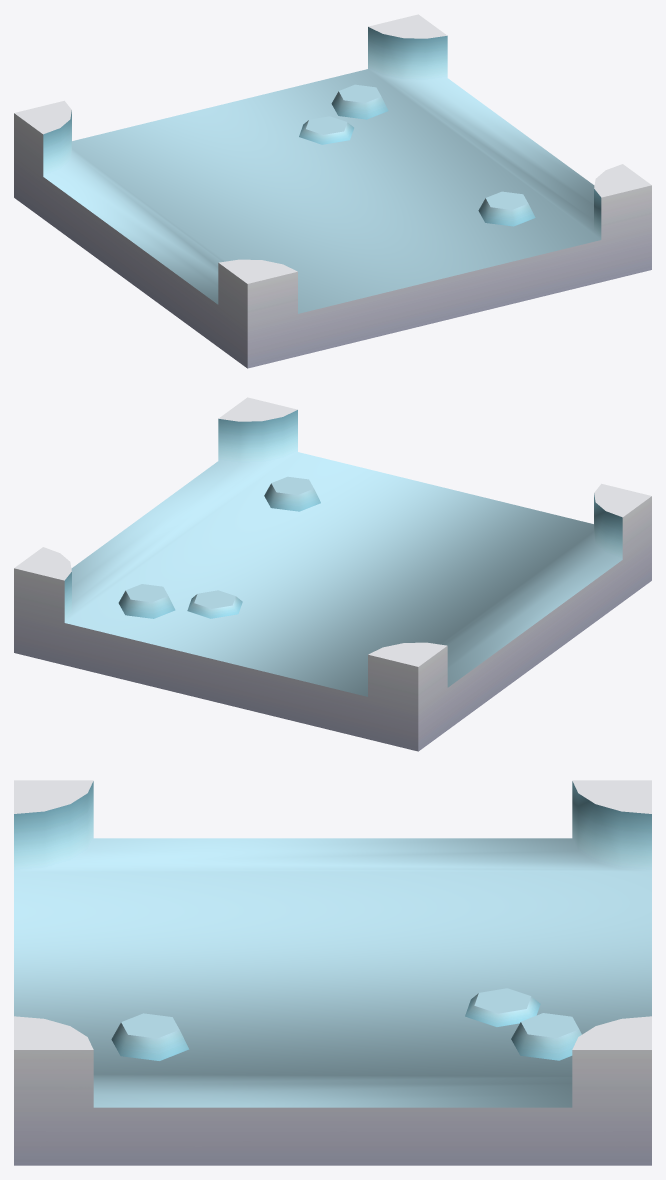
File: kenney-tower-defense-snow-tile-crossing.glb
The picture shows the model from 3 angles, top to bottom: view 1: azimuth 30°, elevation 25°; view 2: azimuth 150°, elevation 25°; view 3: azimuth 270°, elevation 25°; orthographic projection. The views are drawn at different scales.
Parts seen in each view (by area): view 1: snow-tile-crossing; view 2: snow-tile-crossing; view 3: snow-tile-crossing.
Boxes of the visible parts, x1,y1,x2,y2 form: snow-tile-crossing: [14, 14, 651, 368]; snow-tile-crossing: [14, 397, 651, 751]; snow-tile-crossing: [14, 780, 651, 1165].
Size of the model in its own units: 1 by 0.2 by 1.
1 material, 1 textured.
